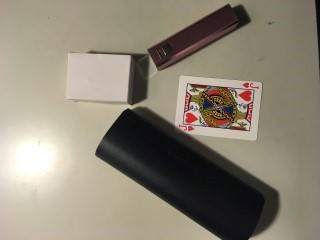JackOfHearts: (173, 76, 263, 140)
